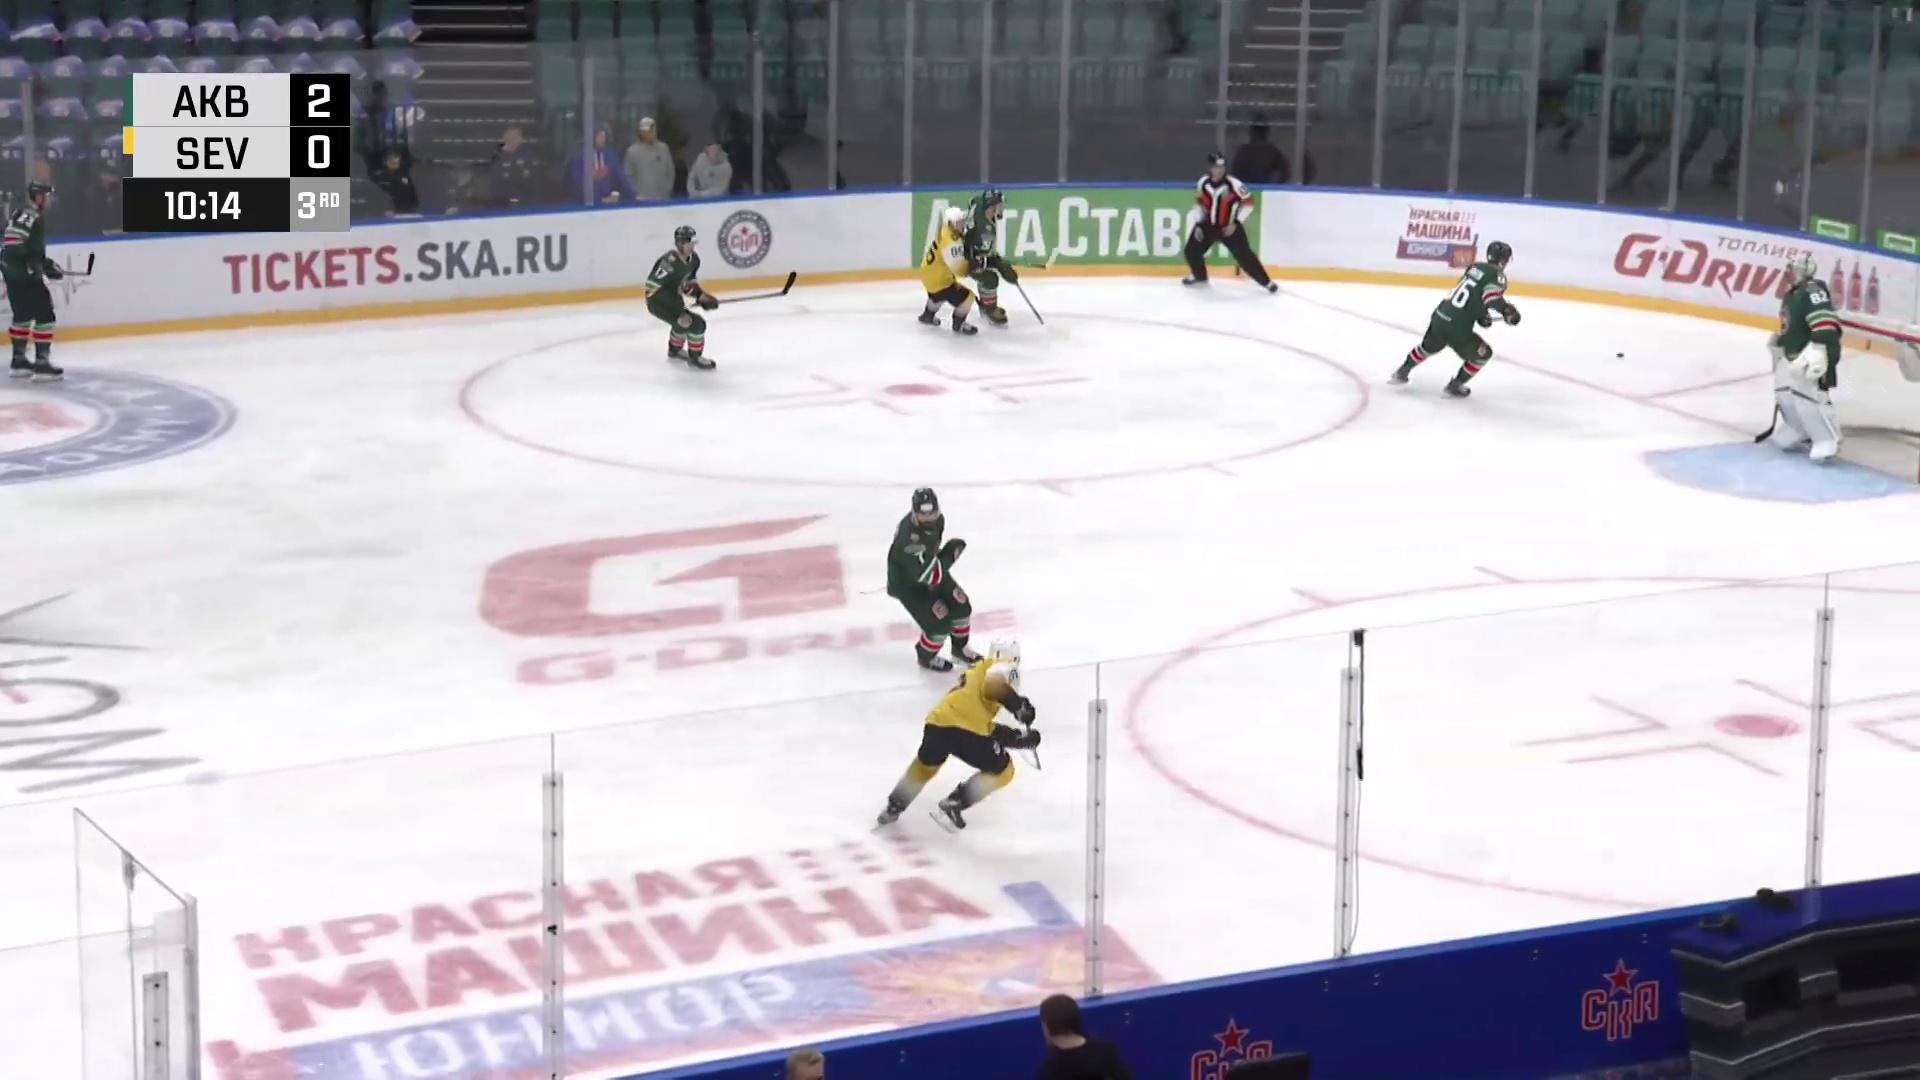ball: (1615, 352, 1626, 360)
